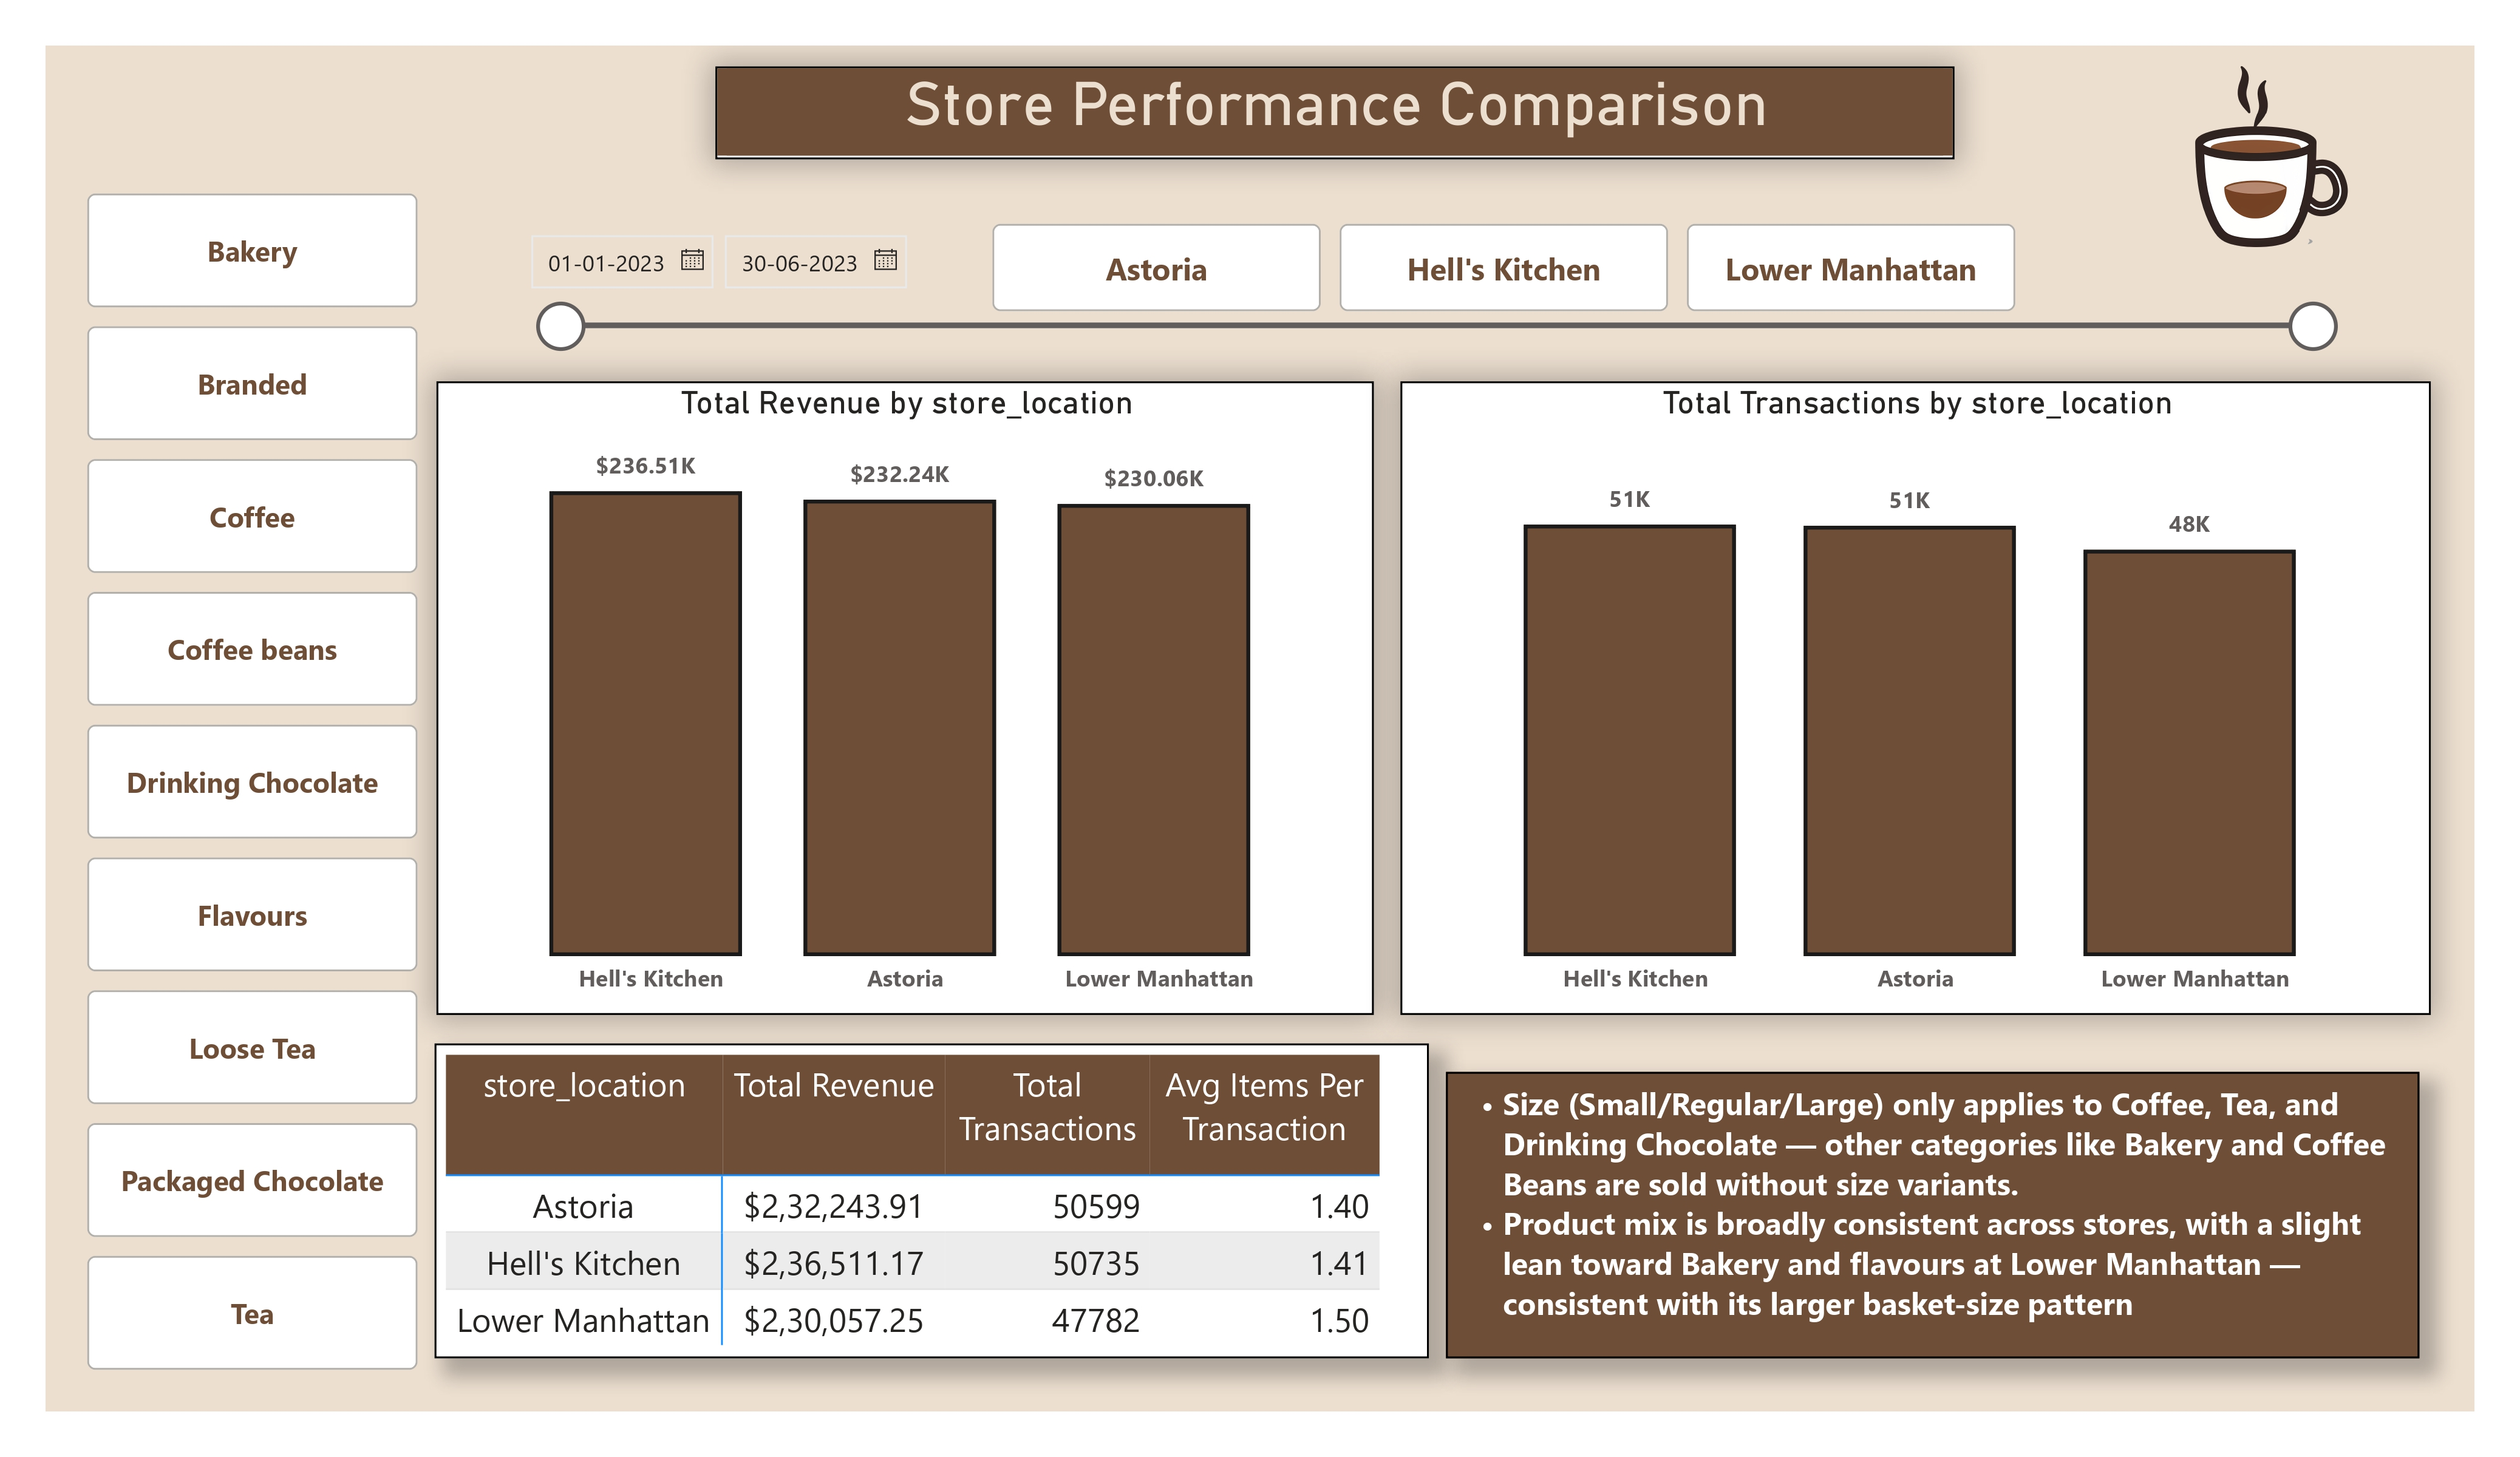

Layout of this report page (visuals, bound fields, positions):
{"tool":"powerbi","page":{"name":"Store Performance","canvas":[1280,720],"ordinal":2},"visuals":[{"type":"clusteredColumnChart","fields":{"Y":["_fact_sales.Total Revenue"],"Category":["dim_store.store_location"]},"box":[205.7,177.1,494.3,334.3],"z":0},{"type":"clusteredColumnChart","fields":{"Y":["_fact_sales.Total Transactions"],"Category":["dim_store.store_location"]},"box":[714.3,177.1,542.9,334.3],"z":1000},{"type":"pivotTable","fields":{"Rows":["dim_store.store_location"],"Values":["_fact_sales.Total Revenue","_fact_sales.Total Transactions","_fact_sales.Avg Items Per Transaction"]},"box":[205.1,525.8,524.4,166.5],"z":2000},{"type":"textbox","box":[737.7,540.9,513.4,151.4],"z":3000},{"type":"textbox","title":"Store Performance Comparison","box":[352.9,11.4,652.9,48.6],"z":4001},{"type":"advancedSlicerVisual","fields":{"Values":["dim_product.product_category"]},"box":[17.1,72.9,184.3,637.1],"z":4002},{"type":"advancedSlicerVisual","fields":{"Values":["dim_store.store_location"]},"box":[494.1,89.5,549.2,55.1],"z":4003},{"type":"slicer","fields":{"Values":["dim_date_new.transaction_date"]},"box":[242.9,90,972.9,77.1],"z":4004},{"type":"image","box":[1076.3,5.5,194.1,106],"z":4005}]}

Visuals, with their boxes on the page's 1280x720 design canvas (x1, y1, x2, y2). These are canvas units, not pixel positions in the 2520x1457 screenshot, which may show the page scaled, cropped or inside an application window:
clusteredColumnChart - _fact_sales.Total Revenue x dim_store.store_location: [206,177,700,511]
clusteredColumnChart - _fact_sales.Total Transactions x dim_store.store_location: [714,177,1257,511]
pivotTable - dim_store.store_location x _fact_sales.Total Revenue: [205,526,730,692]
textbox: [738,541,1251,692]
"Store Performance Comparison" textbox: [353,11,1006,60]
advancedSlicerVisual - dim_product.product_category: [17,73,201,710]
advancedSlicerVisual - dim_store.store_location: [494,90,1043,145]
slicer - dim_date_new.transaction_date: [243,90,1216,167]
image: [1076,6,1270,112]
